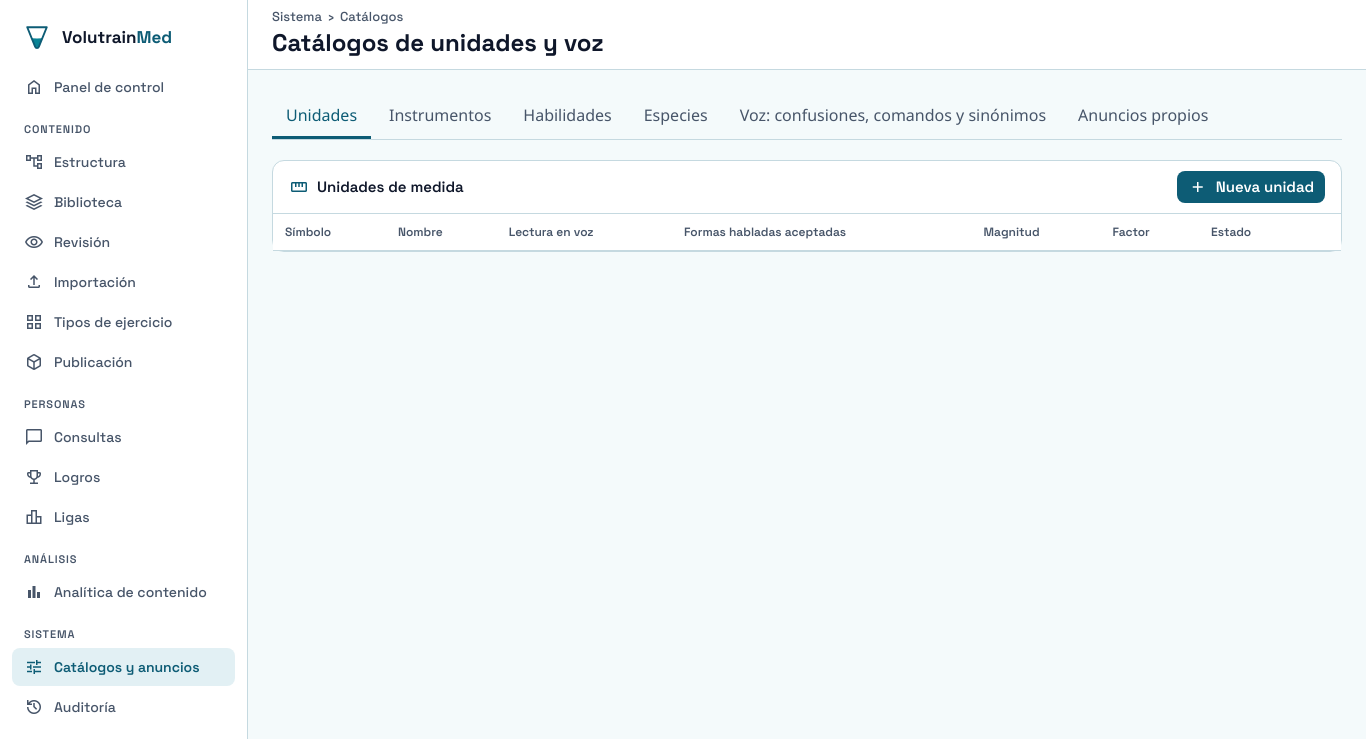
Test: B26 · catálogos de unidades y voz › Nueva forma hablada: «gammas» para microgramos en anestesia queda en borrador hasta su revisión y llega con la siguiente publicación
Click the tab "Voz: confusiones, comandos y sinónimos" at coordinates (893, 116), box [726, 94, 1060, 139]
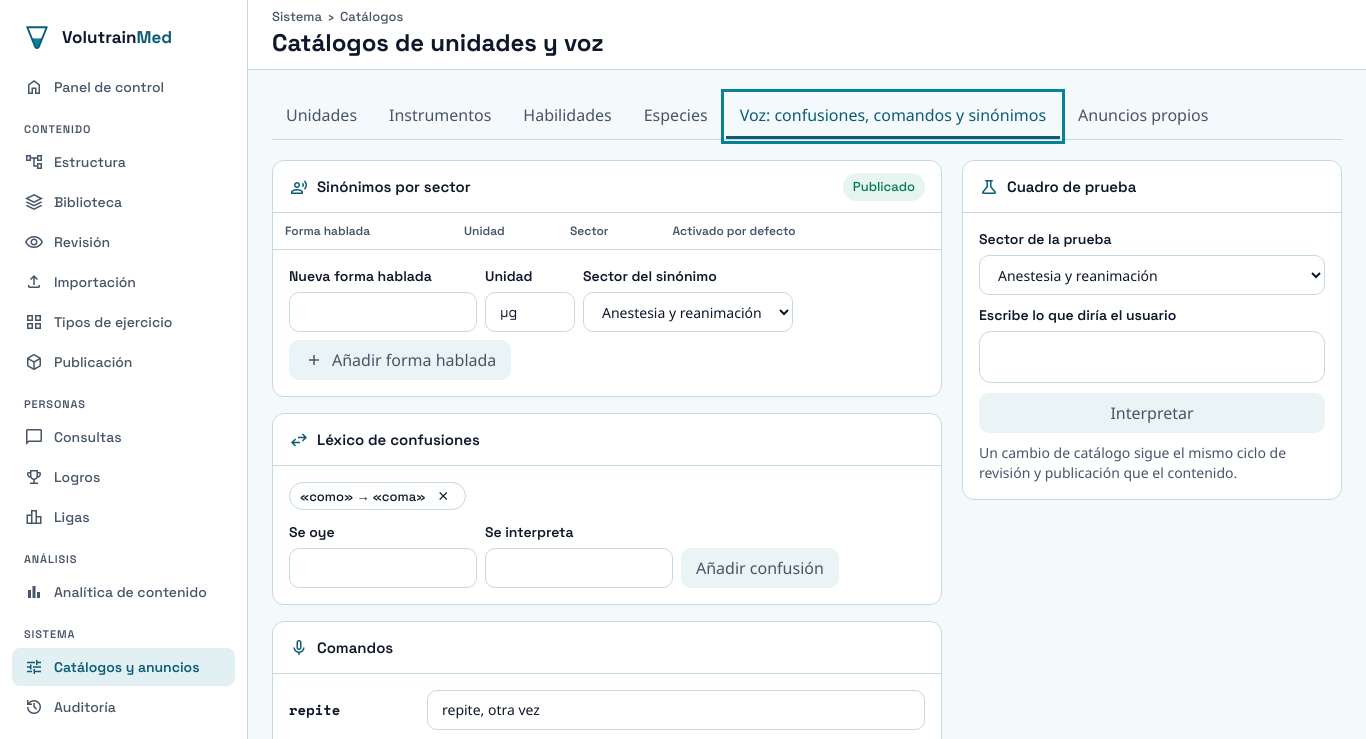
Type "gammas" into the field labelled "Nueva forma hablada" at coordinates (383, 312), box [289, 292, 477, 332]
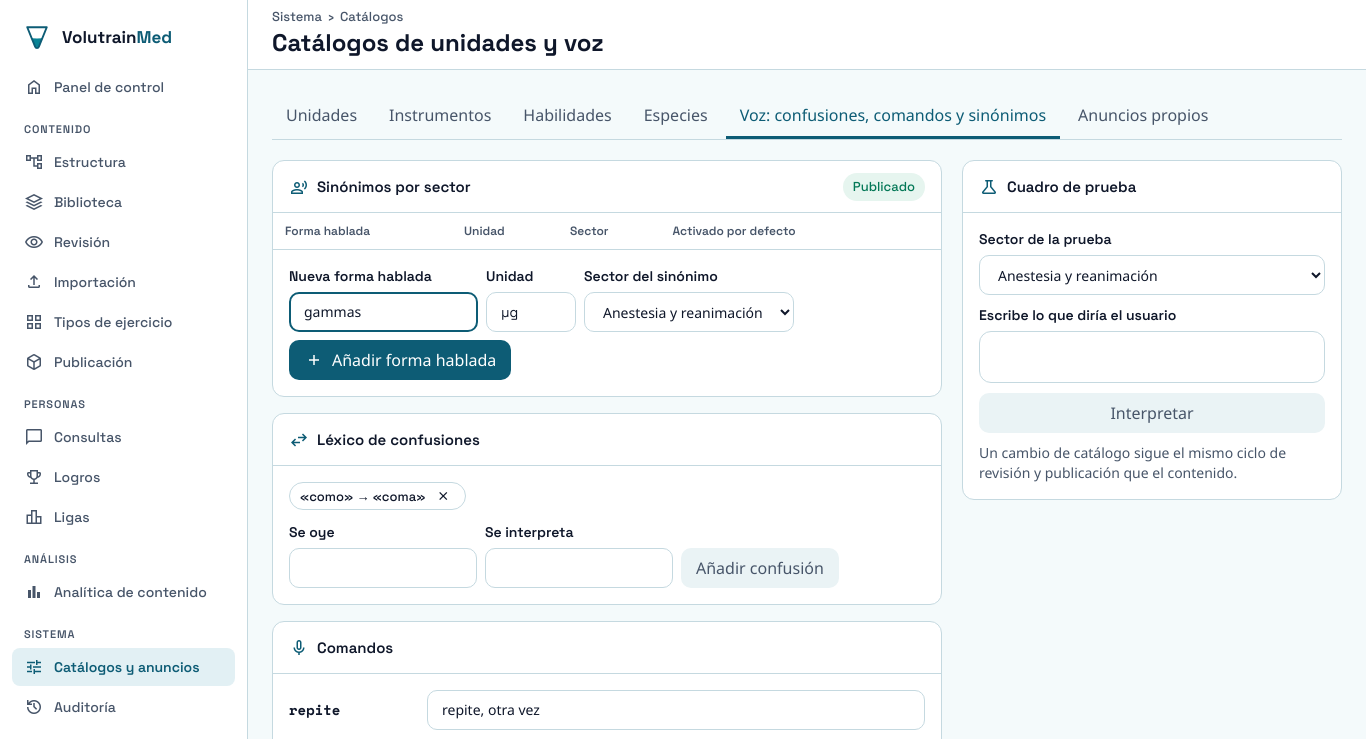
Clear the field labelled "Unidad" at coordinates (531, 312), box [486, 292, 576, 332]
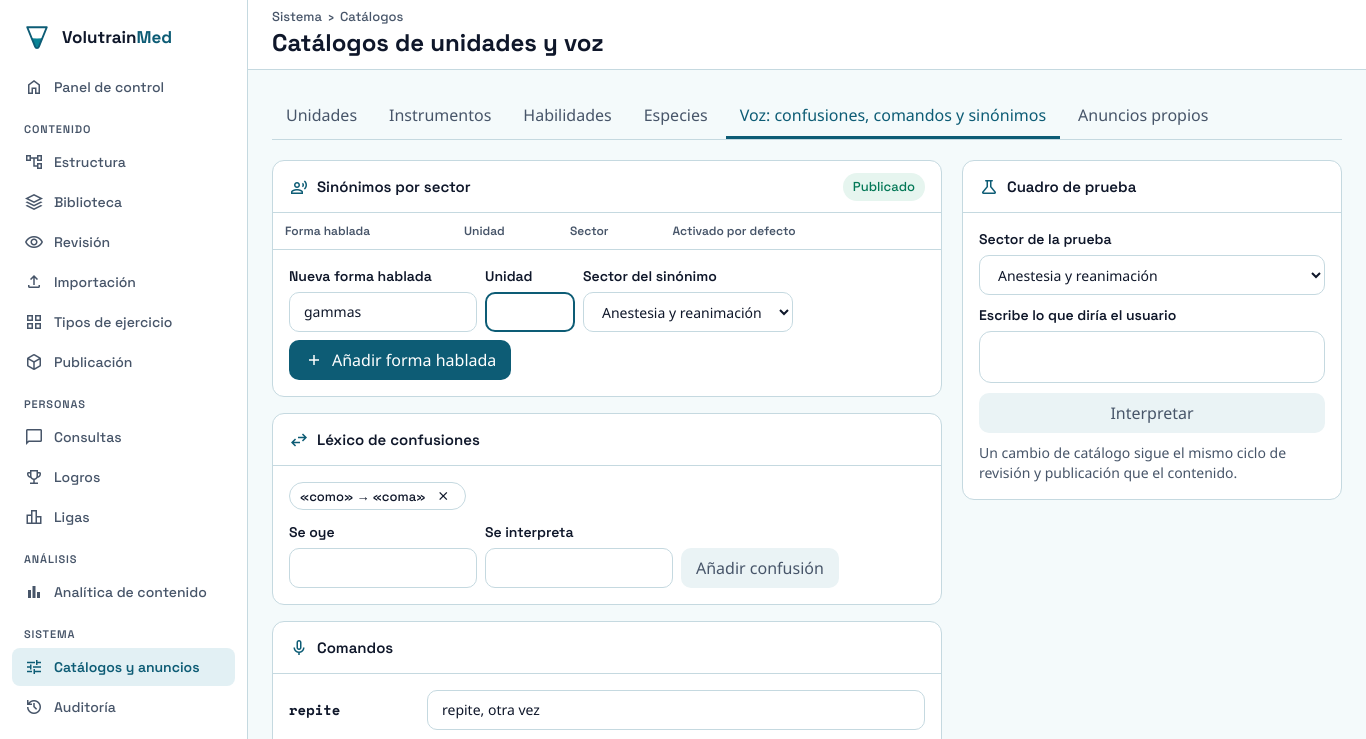
Type "µg" into the field labelled "Unidad" at coordinates (530, 312), box [485, 292, 575, 332]
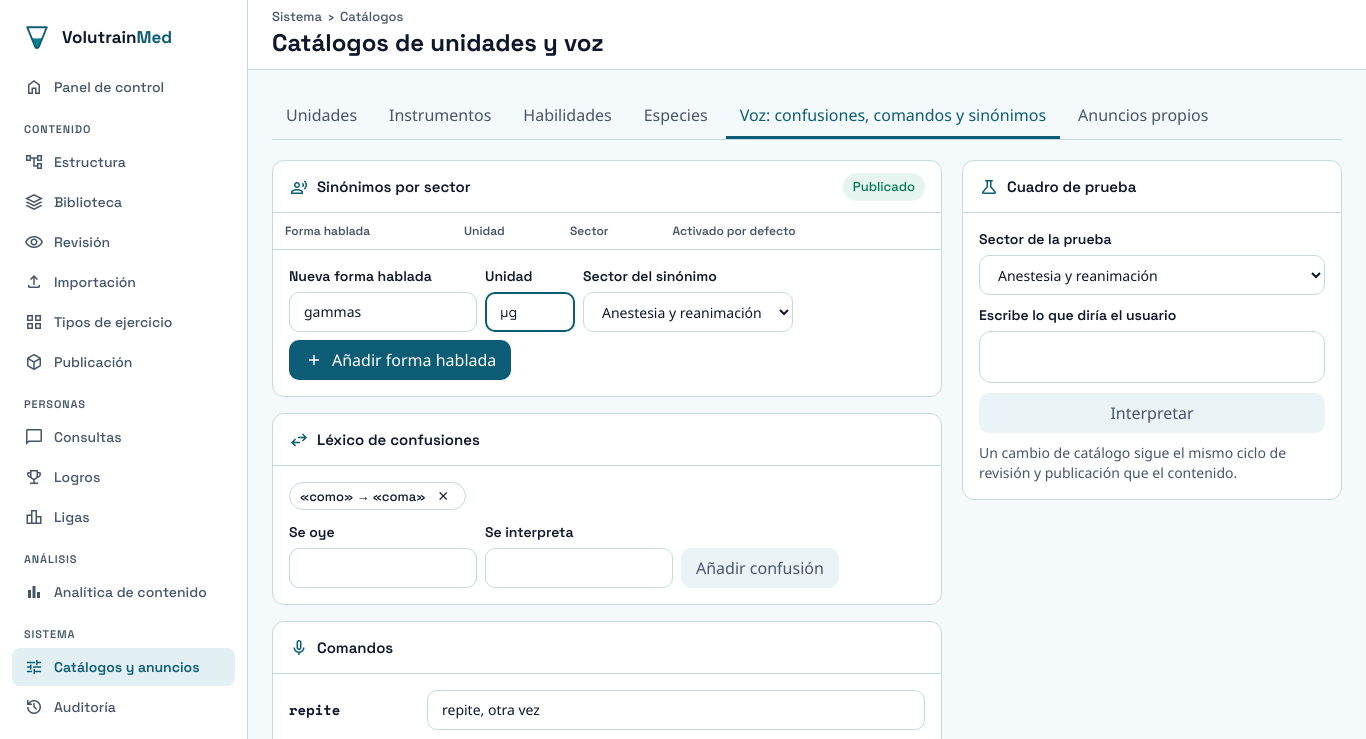
Select "Anestesia y reanimación" in the dropdown labelled "Sector del sinónimo" at coordinates (688, 312), box [583, 292, 793, 332]
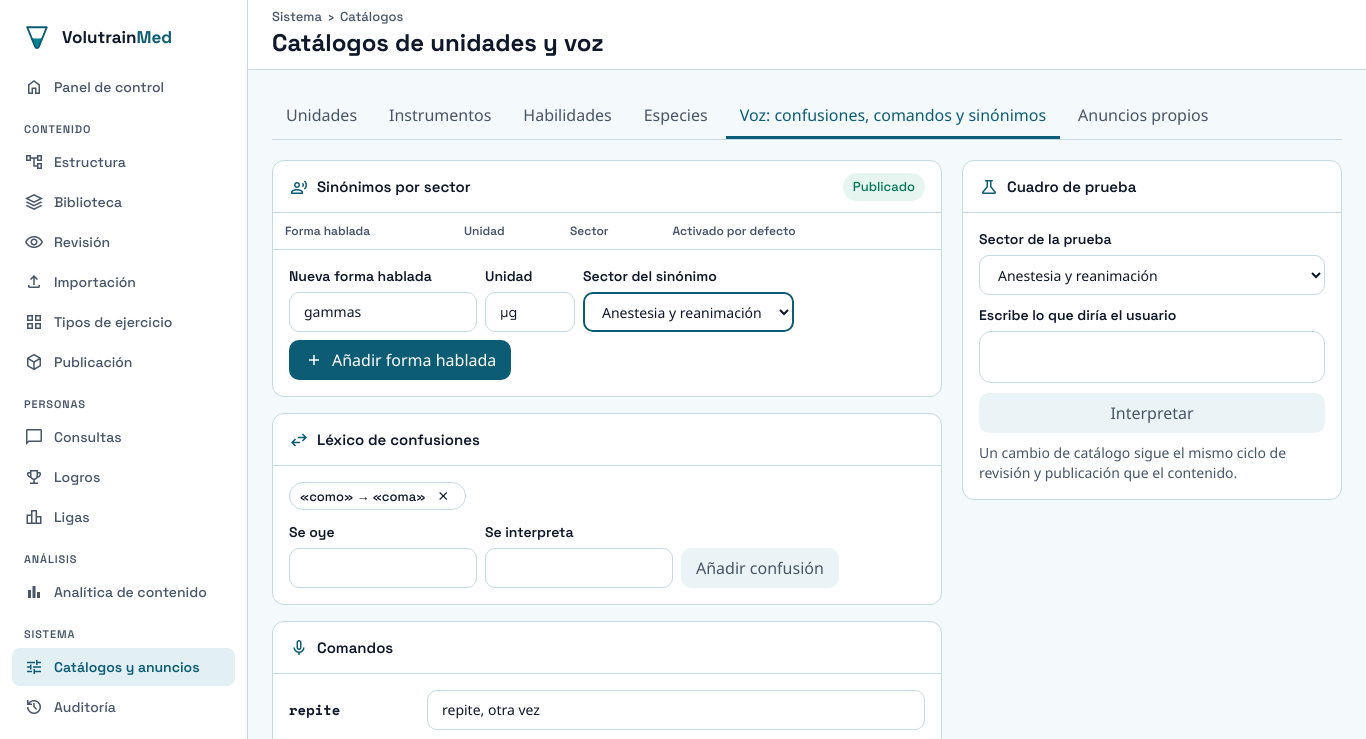
Click the button "Añadir forma hablada" at coordinates (400, 360), box [289, 340, 511, 380]
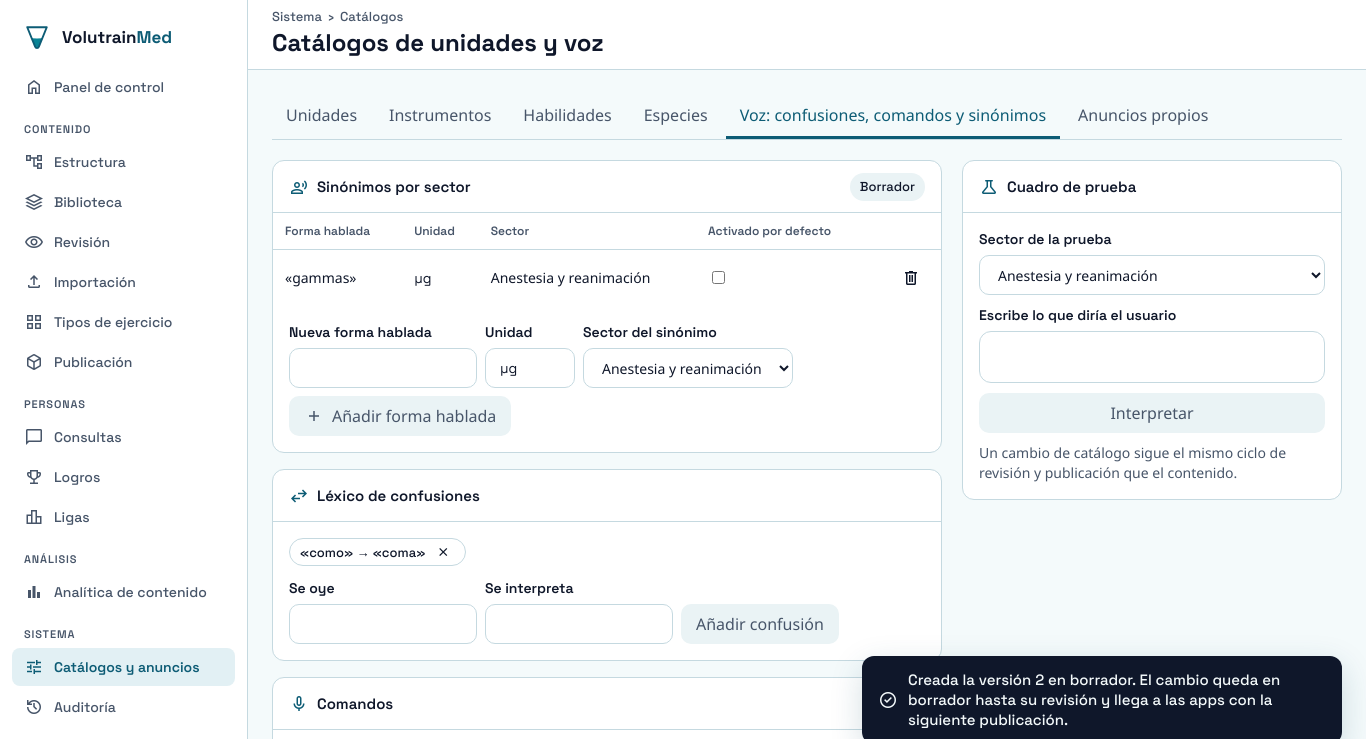
Now the text "Creada la versión 2 en borrador. El cambio queda en borrador hasta su revisión y llega a las apps con la siguiente publi" is shown, box [908, 670, 1280, 729]
Now the row "«gammas» µg Anestesia y reanimación" is shown, box [273, 250, 941, 306]
Now the text "Borrador" is shown, box [850, 172, 925, 200]
